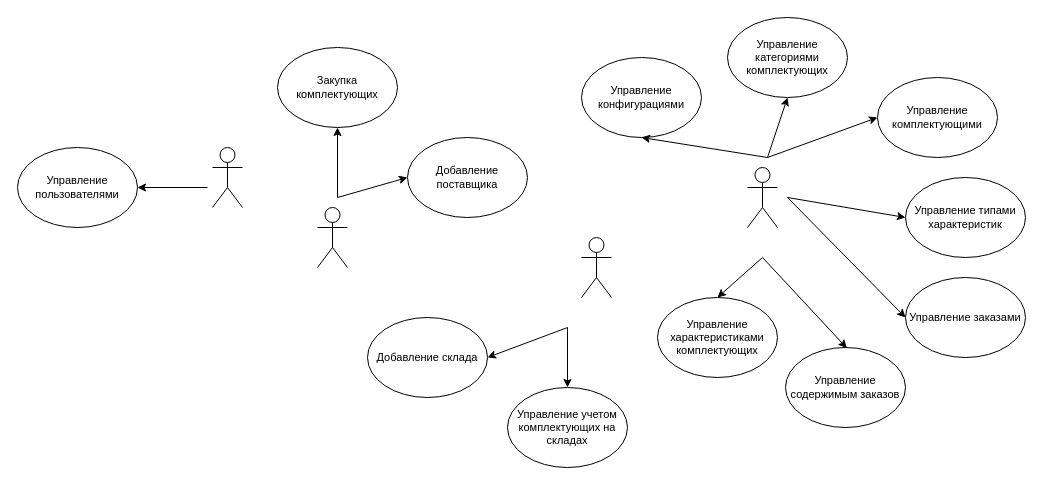
The diagram is 1043 pixels wide and 485 high, and some of its shapes have lost their labels. The shapes that lost their labels are listed below. From the top down, each one's box as (x1, y1, x2, y2) in pixels, then its label:
(212, 146, 242, 208): Администратор
(746, 166, 778, 228): Консультант
(316, 206, 348, 268): Менеджер по закупкам
(580, 236, 612, 298): Работник склада
